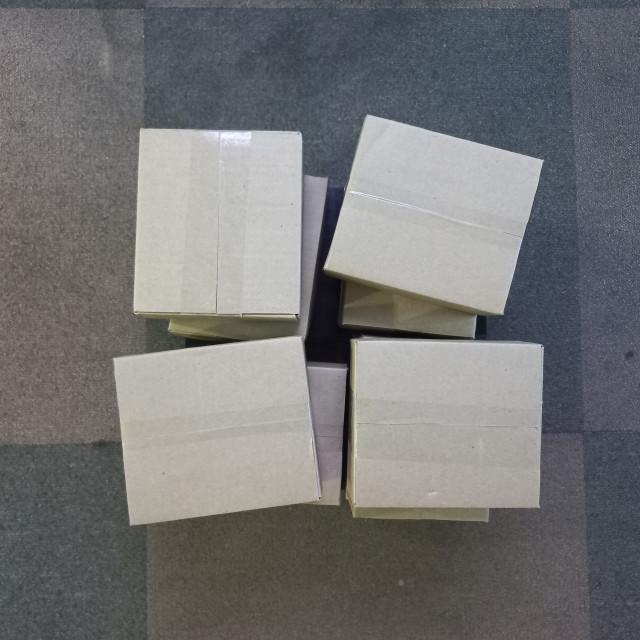box: (321, 111, 544, 319), (109, 334, 322, 529), (345, 334, 547, 514), (114, 151, 317, 320), (131, 126, 305, 321), (335, 318, 528, 478), (336, 152, 512, 300), (127, 332, 321, 464)
